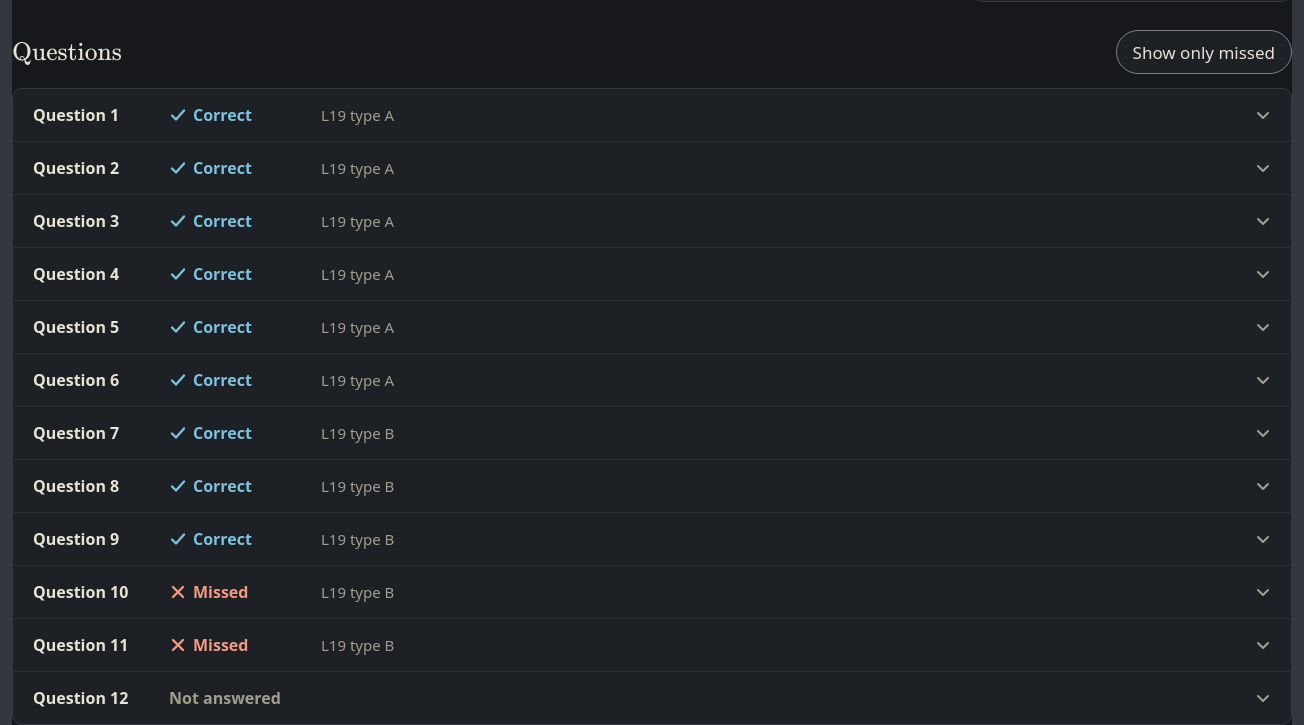
an unanswered question says Not answered and reveals its correct choice
The image size is (1304, 725).
(page scrolled)
Click the button "Question 12 Not answered".
click(81, 698)  # box [13,672,1291,724]
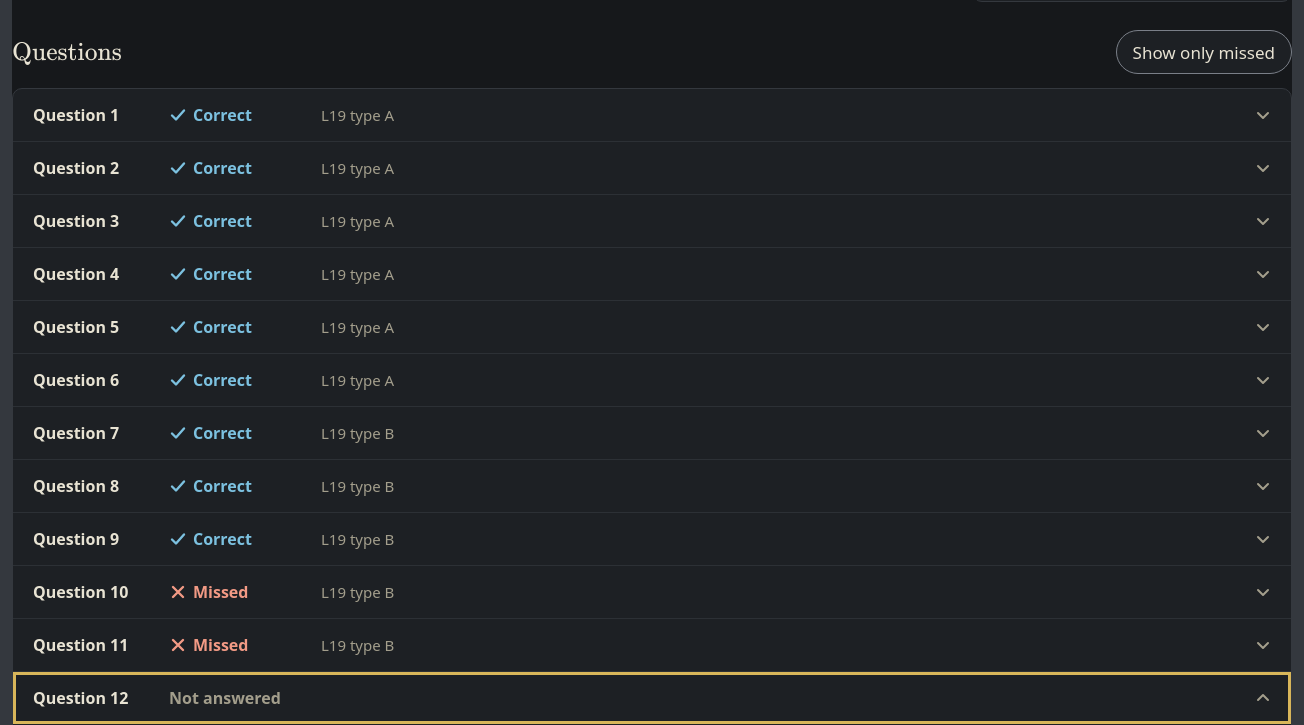
Expected: the text "Not answered" is shown once, [169,687,281,709]
Click the button "Question 10 Missed L19 type B".
click(81, 592)  # box [13,566,1291,618]
(page scrolled)
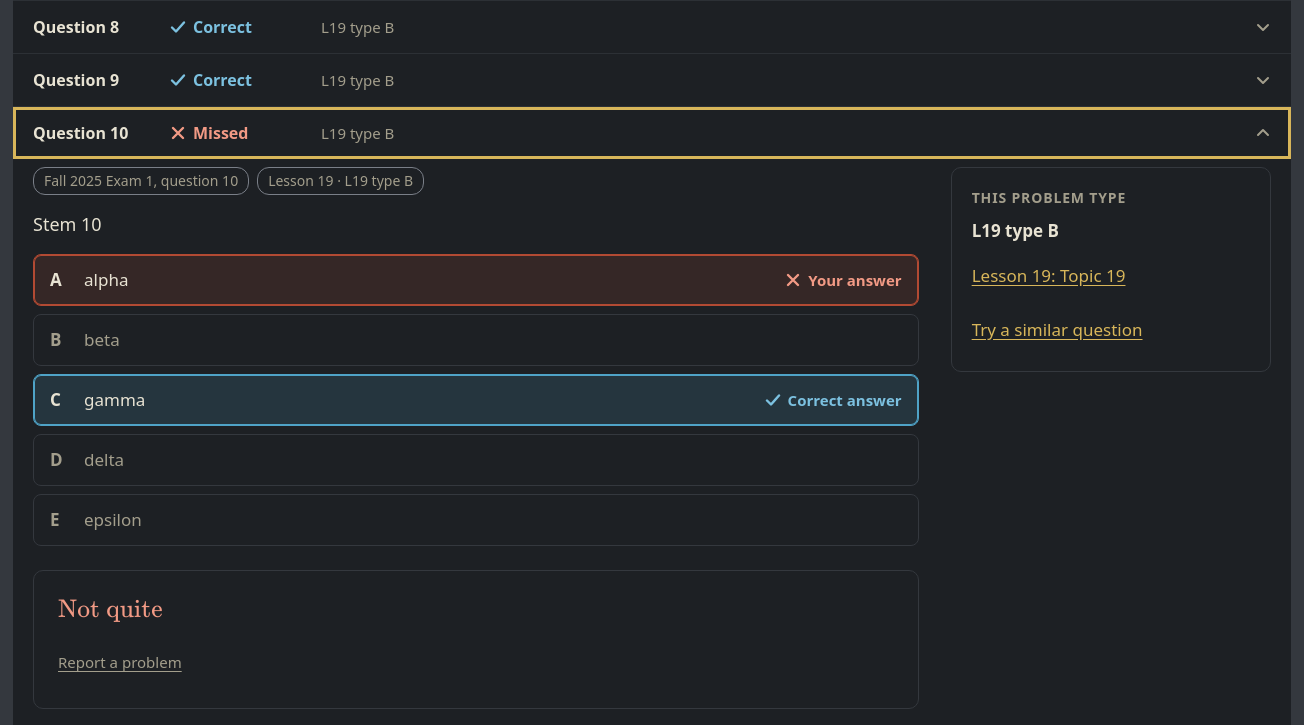
Now the button "A alpha Your answer" is shown, box [33,254,919,306]
